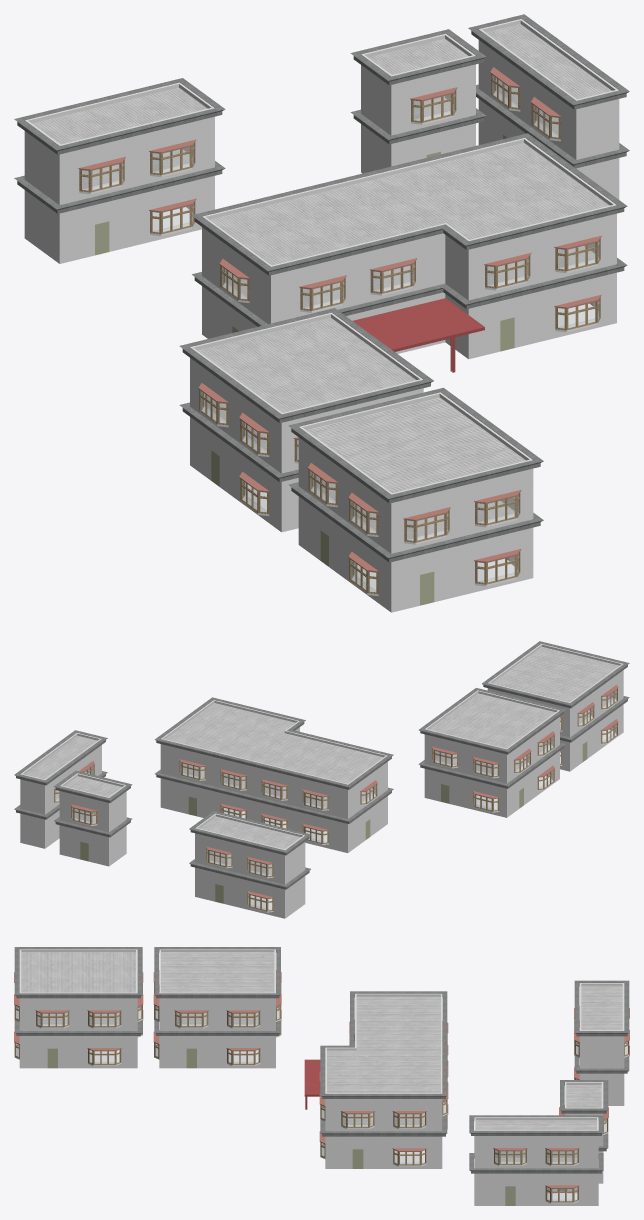
File: Plan(REF)_levels(2)_window(W Splay Bay 23_5)_wall(WAFRA WALL)_quoin(N)_cornice(Y).fbx
3 views of the same model, one above another, from view 1: azimuth 30°, elevation 25°; view 2: azimuth 150°, elevation 25°; view 3: azimuth 270°, elevation 25° (orthographic). The views are drawn at different scales.
Parts seen in each view (by area): view 1: WAFRA Stucco - White Rough 23, WAFRA Roof - Corrugated Sheet Matte 23, Concrete - Structural, Wood - Millwork - Pine - Horizontal, Glass - Clear, Metal - Finish - Copper, WAFRA Roof - Standing Seam Red Coat 23, Color - White, Color - Beige; view 2: WAFRA Stucco - White Rough 23, WAFRA Roof - Corrugated Sheet Matte 23, Concrete - Structural, Wood - Millwork - Pine - Horizontal, Glass - Clear, Metal - Finish - Copper, Color - White, Color - Beige; view 3: WAFRA Stucco - White Rough 23, WAFRA Roof - Corrugated Sheet Matte 23, Concrete - Structural, Wood - Millwork - Pine - Horizontal, Glass - Clear, Metal - Finish - Copper, Color - White, Color - Beige, WAFRA Roof - Standing Seam Red Coat 23.
Part boxes in pixels (x1,y1,x2,y2): WAFRA Stucco - White Rough 23: (24, 19, 619, 612); WAFRA Roof - Corrugated Sheet Matte 23: (32, 24, 611, 539); Concrete - Structural: (14, 14, 629, 562); Wood - Millwork - Pine - Horizontal: (79, 74, 600, 594); Glass - Clear: (82, 75, 598, 591); Metal - Finish - Copper: (78, 67, 601, 572); WAFRA Roof - Standing Seam Red Coat 23: (353, 298, 484, 372); Color - White: (79, 92, 600, 596); Color - Beige: (95, 135, 514, 605); WAFRA Stucco - White Rough 23: (20, 644, 623, 918); WAFRA Roof - Corrugated Sheet Matte 23: (24, 647, 618, 875); Concrete - Structural: (14, 641, 629, 889); Wood - Millwork - Pine - Horizontal: (54, 689, 617, 911); Glass - Clear: (55, 690, 616, 909); Metal - Finish - Copper: (54, 685, 618, 898); Color - White: (54, 699, 617, 912); Color - Beige: (59, 741, 587, 903); WAFRA Stucco - White Rough 23: (19, 949, 624, 1205); WAFRA Roof - Corrugated Sheet Matte 23: (21, 952, 622, 1161); Concrete - Structural: (14, 947, 629, 1173); Wood - Millwork - Pine - Horizontal: (14, 983, 629, 1202); Glass - Clear: (16, 1006, 627, 1200); Metal - Finish - Copper: (14, 970, 629, 1188); Color - White: (14, 1008, 629, 1203); Color - Beige: (47, 1048, 567, 1205); WAFRA Roof - Standing Seam Red Coat 23: (304, 1059, 320, 1109).
Bounding box in the file's own units: 4259 × 5945 × 800.
Materials: 13 (6 with a texture image).
